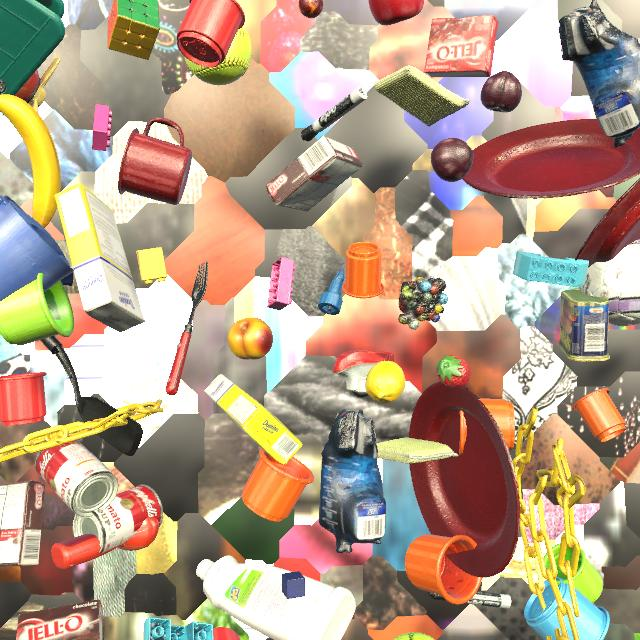ycb_004_sugar_box: (54, 183, 145, 332), (204, 374, 303, 465)
ycb_005_tomato_soup_can: (35, 435, 118, 517), (73, 484, 163, 554)
ycb_008_pudding_box: (265, 135, 363, 212), (0, 480, 45, 567), (16, 599, 103, 640)
ycb_009_gelatin_box: (424, 15, 499, 77)
ycb_010_potted_meat_can: (557, 288, 610, 362)
ycb_011_banana: (0, 94, 61, 228)
ycb_012_strawberry: (436, 355, 471, 388)
ycb_013_apple: (368, 0, 424, 26)
ycb_014_lemon: (365, 361, 405, 403)
ycb_015_peach: (228, 317, 273, 360)
ycb_018_plum: (431, 138, 473, 182), (481, 71, 522, 112)
